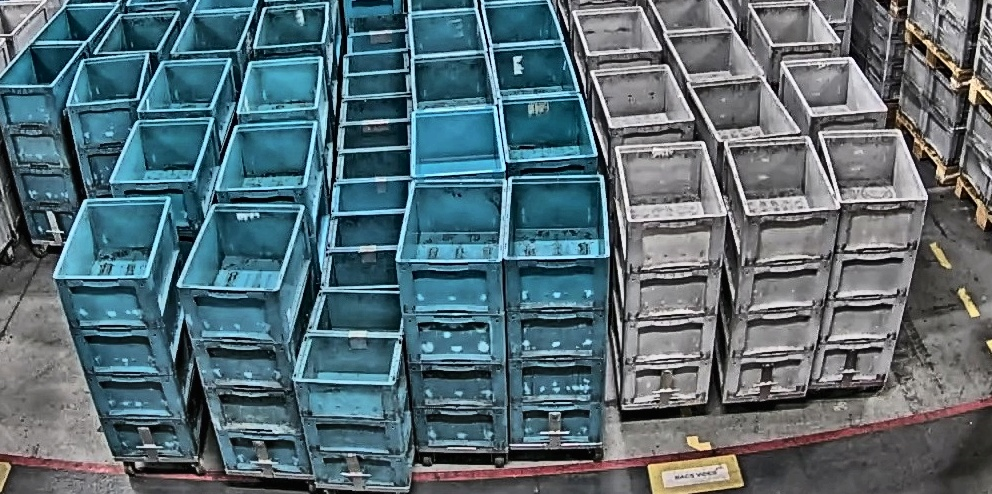4G: (714, 133, 841, 400), (807, 128, 930, 387), (612, 140, 729, 408)
B4: (51, 196, 206, 459), (176, 202, 318, 477), (392, 179, 511, 451), (500, 173, 613, 444), (64, 52, 154, 198)
B8: (290, 289, 417, 489)
